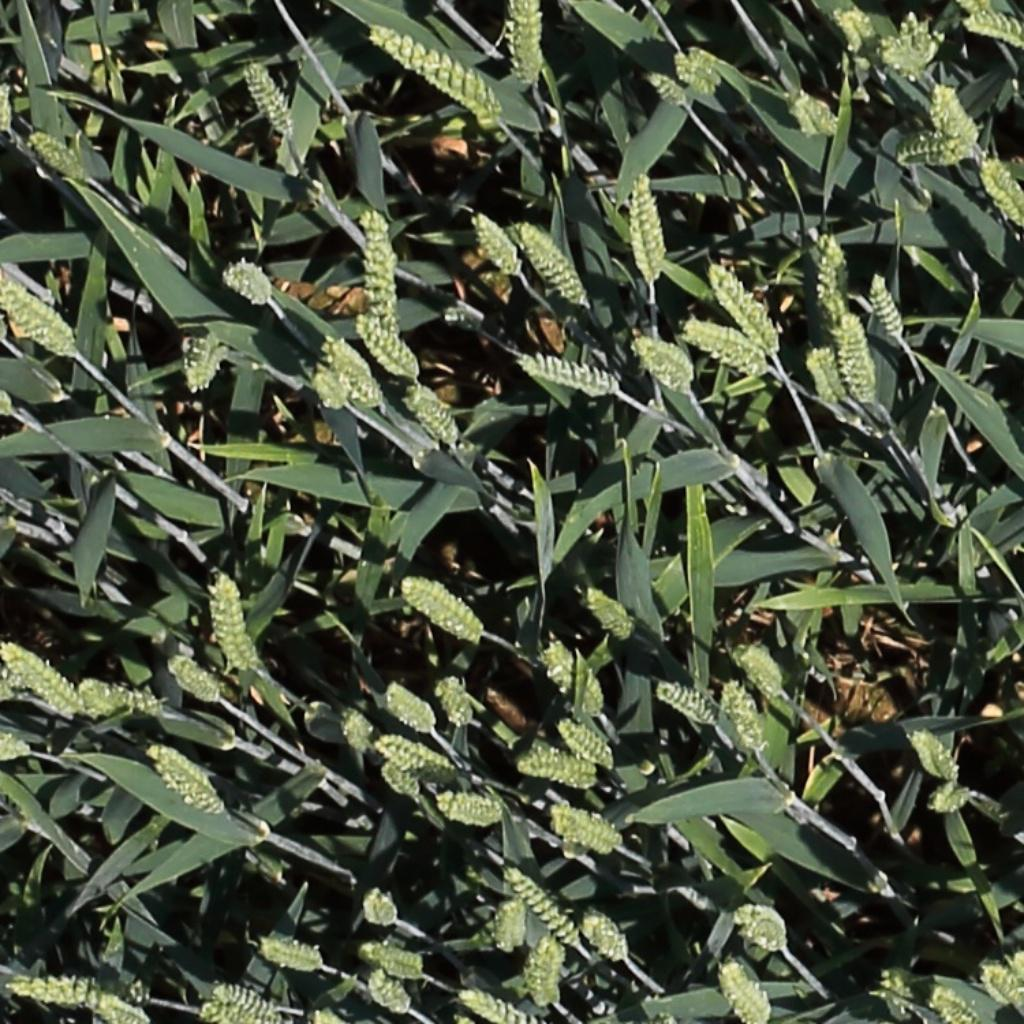0-0: (367, 23, 501, 111), (707, 253, 785, 356), (502, 865, 585, 951), (516, 217, 592, 308), (0, 641, 83, 716), (146, 741, 227, 816), (542, 637, 608, 722), (402, 577, 484, 643), (518, 354, 624, 403), (240, 55, 300, 141), (320, 330, 386, 408), (212, 570, 260, 677), (352, 312, 423, 380), (879, 9, 948, 76), (3, 973, 114, 1014), (468, 203, 527, 278), (684, 320, 768, 372), (5, 286, 78, 345), (363, 203, 394, 341), (932, 73, 984, 154), (720, 675, 770, 759), (513, 744, 597, 794), (632, 169, 667, 286), (841, 305, 880, 409), (373, 732, 458, 778), (466, 889, 525, 954), (404, 386, 464, 449), (719, 957, 775, 1024), (500, 1, 542, 90), (868, 267, 913, 348), (734, 640, 790, 704), (524, 931, 567, 1014), (978, 151, 1024, 228), (76, 676, 163, 715), (552, 806, 623, 853), (632, 334, 699, 383), (582, 585, 638, 643), (558, 718, 618, 772), (817, 228, 849, 329), (383, 679, 439, 735), (27, 126, 87, 178), (806, 339, 850, 409), (182, 330, 228, 395), (436, 787, 505, 830), (578, 912, 633, 965), (364, 962, 416, 1018), (656, 684, 720, 729), (432, 671, 476, 735), (208, 980, 282, 1018), (166, 656, 223, 704), (460, 989, 537, 1024), (895, 139, 974, 172), (789, 87, 841, 135), (964, 10, 1024, 51), (915, 778, 983, 814), (222, 258, 275, 304), (735, 907, 790, 951), (376, 757, 424, 806), (674, 47, 722, 95), (360, 944, 427, 977), (256, 939, 325, 971), (980, 963, 1024, 1011), (339, 704, 375, 760), (307, 367, 350, 413), (835, 4, 876, 51), (647, 68, 693, 109), (929, 985, 978, 1022), (361, 886, 400, 932), (0, 731, 31, 759), (0, 79, 13, 139), (0, 376, 15, 420)
